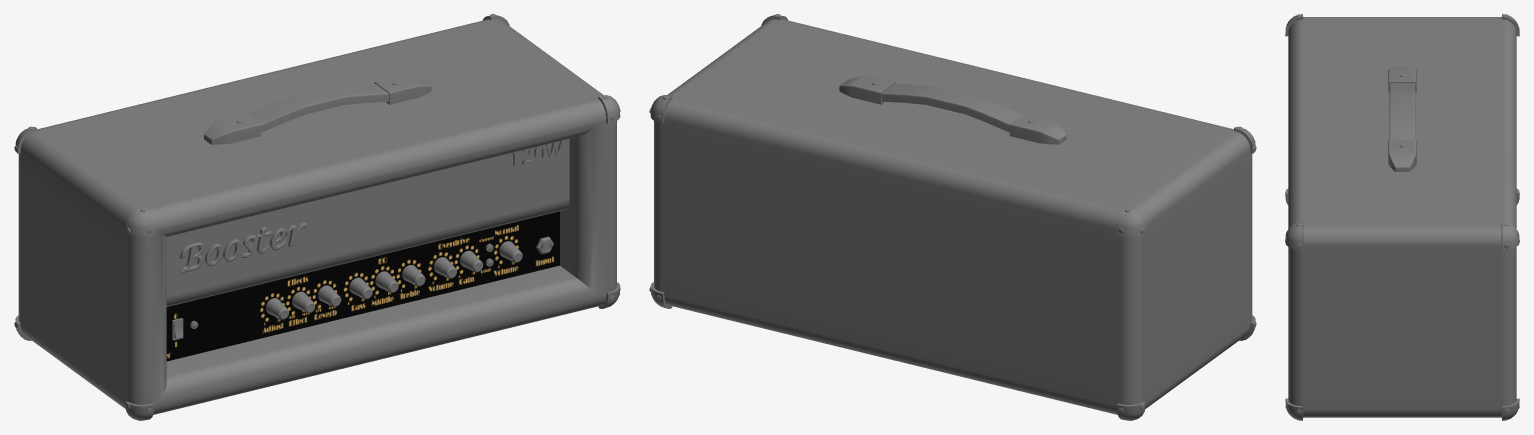
File: SM_Amplifier.FBX
3 renders of one model, left to right at view 1: azimuth 30°, elevation 25°; view 2: azimuth 150°, elevation 25°; view 3: azimuth 270°, elevation 25°, orthographic. The views are drawn at different scales.
Visible parts, largest first — view 1: SM_Amplifier_LOD0; view 2: SM_Amplifier_LOD0; view 3: SM_Amplifier_LOD0.
Part boxes in pixels (x1,y1,x2,y2): SM_Amplifier_LOD0: [14, 14, 620, 420]; SM_Amplifier_LOD0: [649, 14, 1256, 420]; SM_Amplifier_LOD0: [1285, 14, 1519, 420].
Size of what is drawn, in the model's own units: 99.98 by 44.12 by 44.53.
